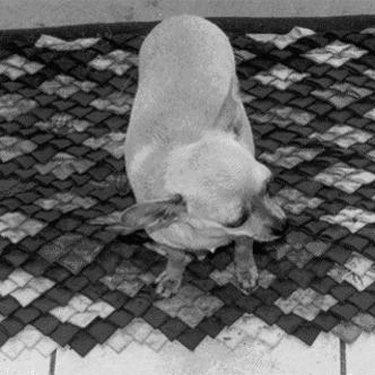dog: (106, 9, 290, 296)
